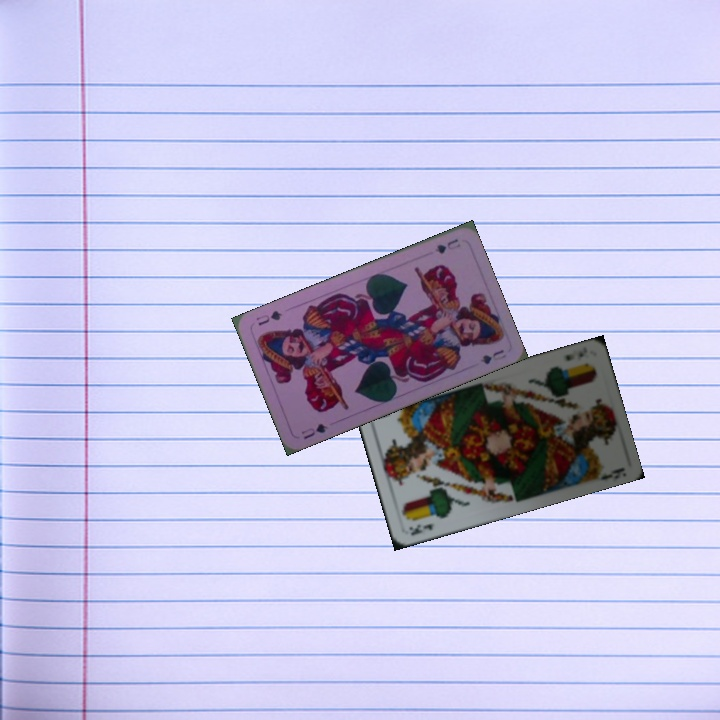EK: (405, 519, 437, 538), (561, 343, 589, 363)
GU: (297, 419, 330, 442), (431, 235, 463, 256)
